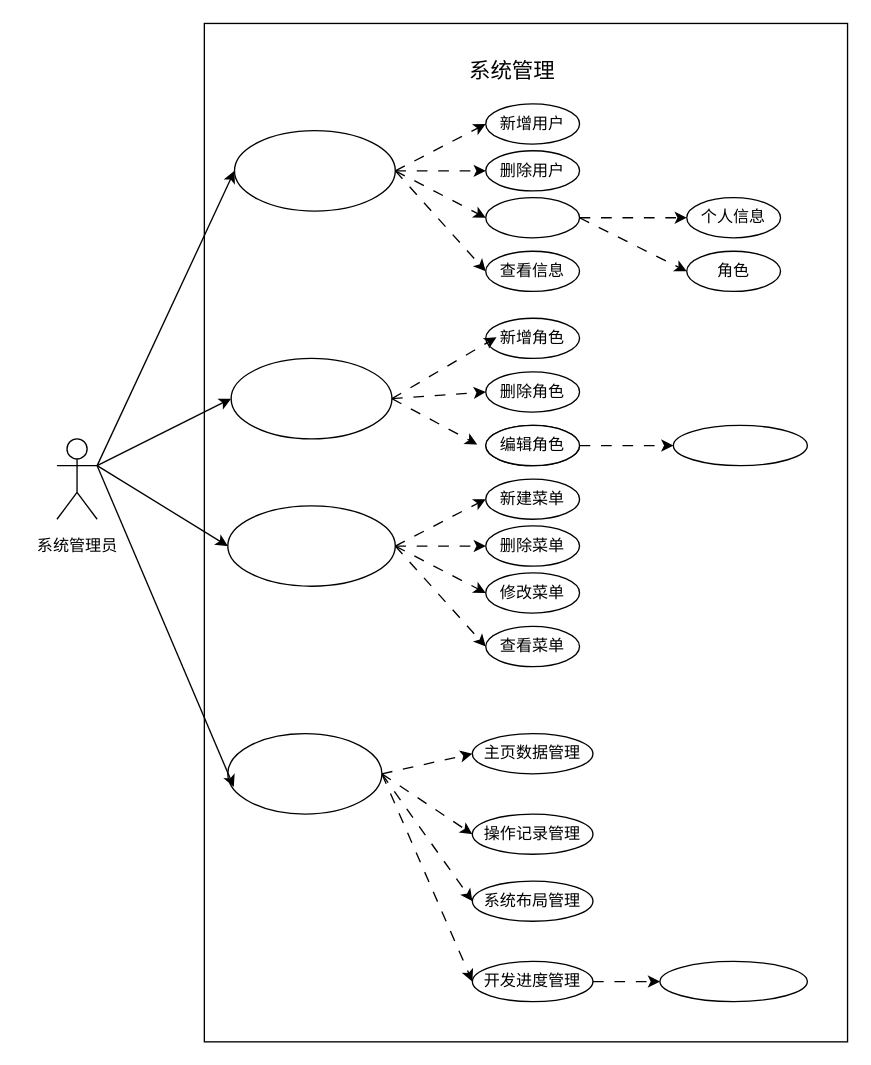
The diagram is 871 pixels wide and 1065 high, and some of its shapes have lost their labels. Here are the shapes that lost their labels. From the top down, the centre of each, then its label:
point (314, 170): 用户管理
point (532, 217): 修改信息
point (311, 398): 角色管理
point (739, 445): 为角色分配权限
point (310, 545): 菜单管理
point (304, 773): 联动管理
point (733, 981): 管理算法开发进度
